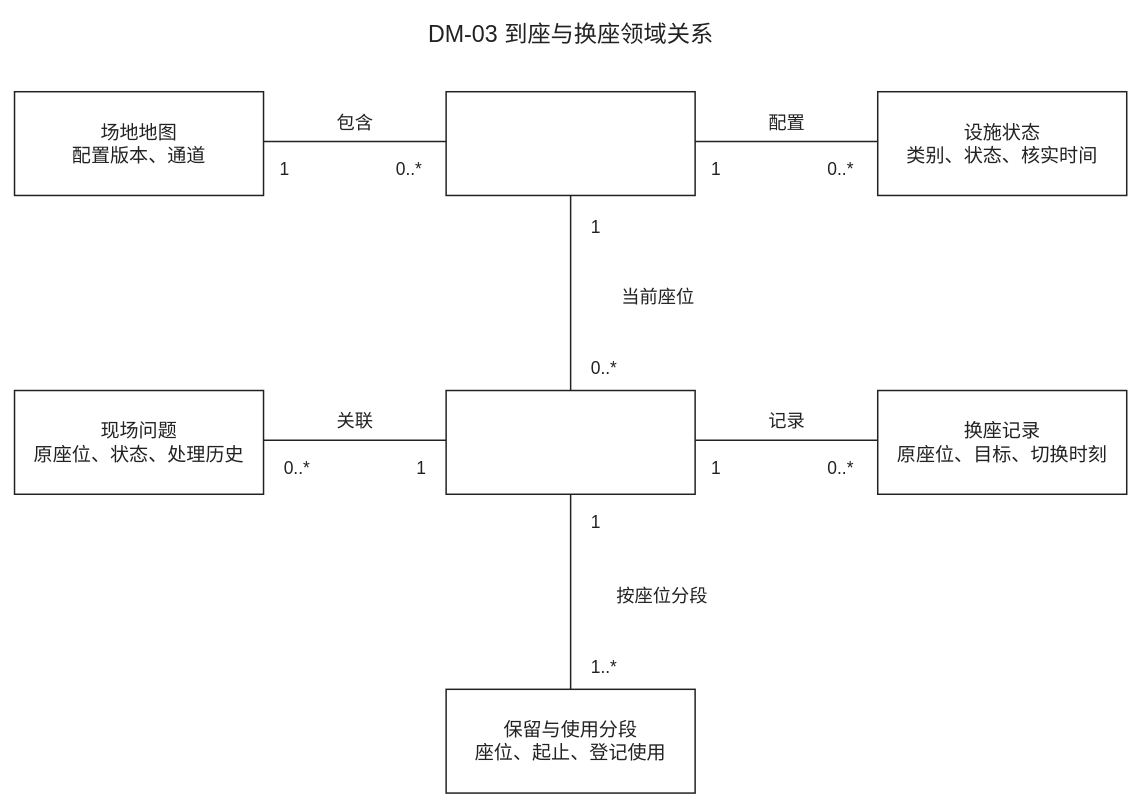
Some shapes in this 1142 by 808 pixel diagram are drawn without their labels. Here are the shapes that lost their labels. From the top down, the box of each, then its label:
(445, 91, 695, 196): 座位 座位号、位置
(445, 389, 695, 495): 预约 当前座位、原结束时间
